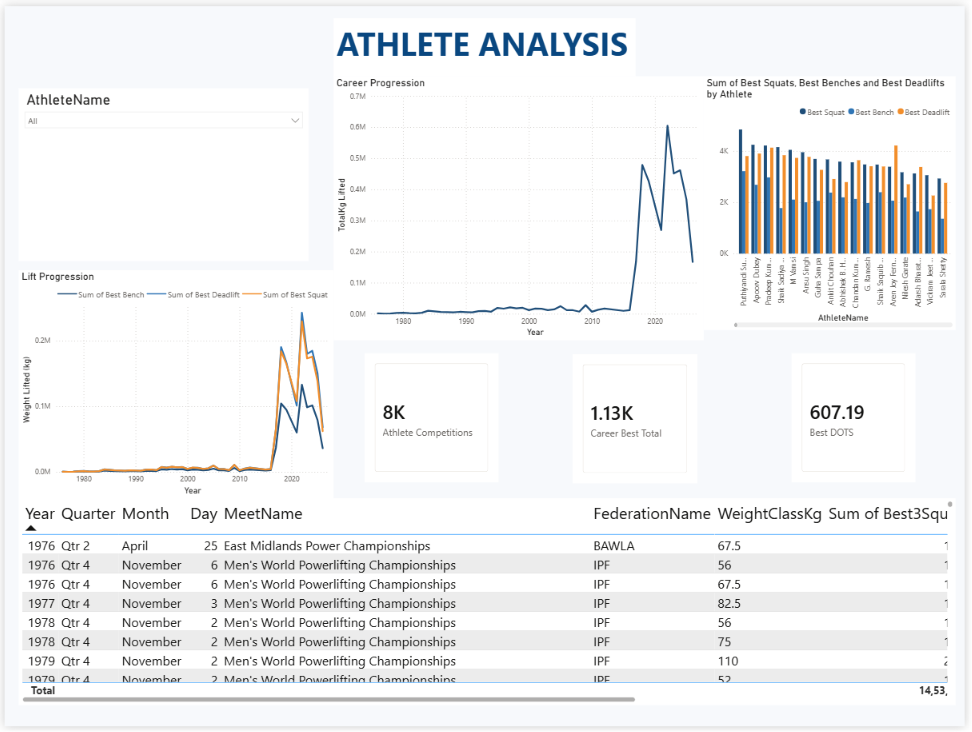

The page's visual inventory and layout, read from the dashboard file:
{"tool":"powerbi","page":{"name":"Athlete Analysis","canvas":[1600,1200],"ordinal":1},"visuals":[{"type":"slicer","fields":{"Values":["dim_athlete.AthleteName"]},"box":[23.3,136.7,483.3,288.3],"z":0},{"type":"cardVisual","fields":{"Data":["Measure Table.Athlete Competitions"]},"box":[600,578.3,223.3,215],"z":1000},{"type":"cardVisual","fields":{"Data":["Measure Table.Best DOTS"]},"box":[1311.7,578.3,206.7,215],"z":2000},{"type":"cardVisual","fields":{"Data":["Measure Table.Career Best Total"]},"box":[946.7,580,208.3,215],"z":3000},{"type":"lineChart","title":"Career Progression","fields":{"Category":["dim_date.FullDate.Variation.Date Hierarchy.Year","dim_date.FullDate.Variation.Date Hierarchy.Quarter","dim_date.FullDate.Variation.Date Hierarchy.Month","dim_date.FullDate.Variation.Date Hierarchy.Day"],"Y":["Sum(fact_results.TotalKg)"]},"box":[548.3,116.7,616.7,440],"z":4000},{"type":"lineChart","title":"Lift Progression","fields":{"Category":["dim_date.FullDate.Variation.Date Hierarchy.Year","dim_date.FullDate.Variation.Date Hierarchy.Quarter","dim_date.FullDate.Variation.Date Hierarchy.Month","dim_date.FullDate.Variation.Date Hierarchy.Day"],"Y":["Sum(fact_results.Best3BenchKg)","Sum(fact_results.Best3DeadliftKg)","Sum(fact_results.Best3SquatKg)"]},"box":[23.3,440,525,380],"z":5000},{"type":"tableEx","fields":{"Values":["dim_meet.MeetDate.Variation.Date Hierarchy.Year","dim_meet.MeetDate.Variation.Date Hierarchy.Quarter","dim_meet.MeetDate.Variation.Date Hierarchy.Month","dim_meet.MeetDate.Variation.Date Hierarchy.Day","dim_meet.MeetName","dim_federation.FederationName","dim_weight_class.WeightClassKg","Sum(fact_results.Best3SquatKg)","Sum(fact_results.Best3BenchKg)","Sum(fact_results.Best3DeadliftKg)","Sum(fact_results.DOTS)"]},"box":[23.3,820,1561.7,345],"z":6000},{"type":"clusteredColumnChart","title":"Sum of Best Squats, Best Benches and Best Deadlifts by Athlete","fields":{"Y":["Sum(fact_results.Best3SquatKg)","Sum(fact_results.Best3BenchKg)","Sum(fact_results.Best3DeadliftKg)"],"Category":["dim_athlete.AthleteName"]},"box":[1165,116.7,420,423.3],"z":8000},{"type":"textbox","box":[548.3,20,503.3,96.7],"z":9000}]}

Visuals, with their boxes in screenshot pixels (x1, y1, x2, y2), scaled from the page's 1600x1200 canvas onto the 972x732 screenshot:
slicer - dim_athlete.AthleteName: bbox=(14, 83, 308, 259)
cardVisual - Measure Table.Athlete Competitions: bbox=(364, 353, 500, 484)
cardVisual - Measure Table.Best DOTS: bbox=(797, 353, 922, 484)
cardVisual - Measure Table.Career Best Total: bbox=(575, 354, 702, 485)
"Career Progression" lineChart: bbox=(333, 71, 708, 340)
"Lift Progression" lineChart: bbox=(14, 268, 333, 500)
tableEx - dim_meet.MeetDate.Variation.Date Hierarchy.Year x dim_meet.MeetDate.Variation.Date Hierarchy.Quarter: bbox=(14, 500, 963, 711)
"Sum of Best Squats, Best Benches and Best Deadlifts by Athlete" clusteredColumnChart: bbox=(708, 71, 963, 329)
textbox: bbox=(333, 12, 639, 71)
